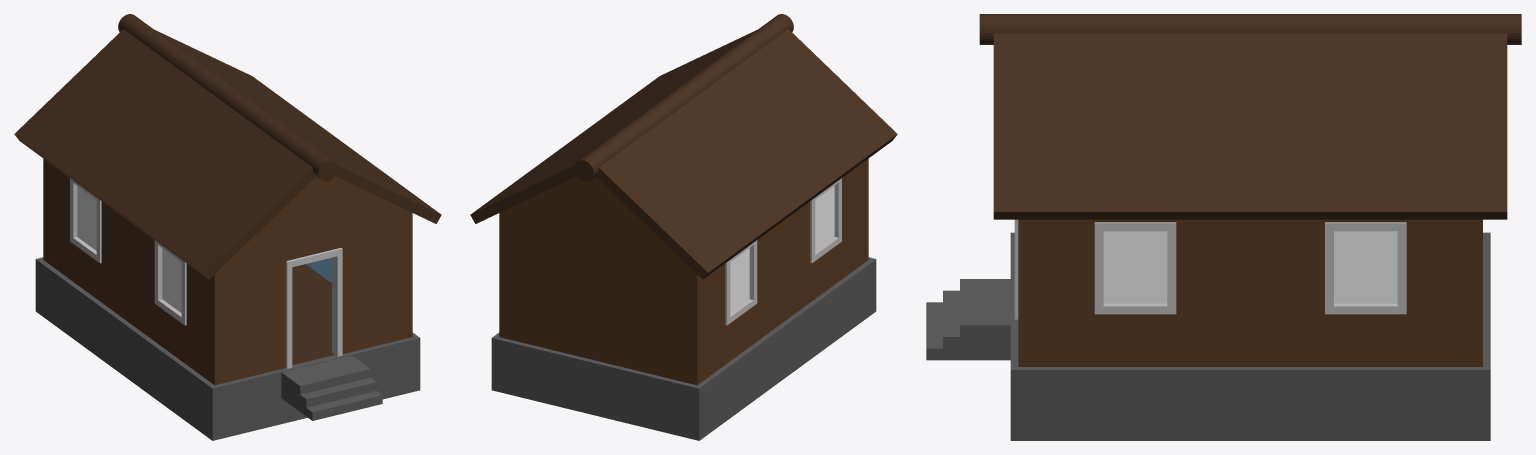
File: house.glb
The picture shows the model from 3 angles, left to right: view 1: azimuth 30°, elevation 25°; view 2: azimuth 150°, elevation 25°; view 3: azimuth 270°, elevation 25°; orthographic projection. The views are drawn at different scales.
Parts seen in each view (by area): view 1: Floor.001, Wall, Cube.002, Wall.001, Cylinder, Cube.001, Floor, Cube.003, Cube, Plane; view 2: Floor.001, Wall.003, Cube.002, Wall.001, Cylinder, Cube.003, Plane; view 3: Floor.001, Wall.001, Cube.002, Cylinder, Plane, Cube.003, Cube.001.
Part boxes in pixels (left/top/right/bottom): Floor.001: left=14, top=29, right=441, bottom=279; Wall: left=214, top=176, right=412, bottom=385; Cube.002: left=35, top=257, right=420, bottom=440; Wall.001: left=43, top=158, right=331, bottom=384; Cylinder: left=118, top=14, right=337, bottom=181; Cube.001: left=281, top=355, right=382, bottom=420; Floor: left=292, top=264, right=333, bottom=365; Cube.003: left=70, top=178, right=186, bottom=325; Cube: left=286, top=248, right=342, bottom=368; Plane: left=77, top=186, right=181, bottom=312; Floor.001: left=470, top=29, right=897, bottom=279; Wall.003: left=499, top=176, right=697, bottom=385; Cube.002: left=491, top=257, right=876, bottom=440; Wall.001: left=697, top=158, right=868, bottom=384; Cylinder: left=574, top=14, right=793, bottom=181; Cube.003: left=725, top=178, right=841, bottom=325; Plane: left=730, top=186, right=834, bottom=312; Floor.001: left=993, top=33, right=1507, bottom=219; Wall.001: left=1018, top=219, right=1482, bottom=366; Cube.002: left=1010, top=232, right=1490, bottom=440; Cylinder: left=979, top=14, right=1521, bottom=44; Plane: left=1103, top=231, right=1397, bottom=303; Cube.003: left=1094, top=222, right=1406, bottom=314; Cube.001: left=926, top=279, right=1010, bottom=360.
Bounding box in the file's own units: 4.81 × 5.09 × 7.69.
